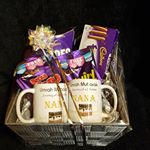cups: (14, 80, 69, 124), (68, 78, 120, 123)
